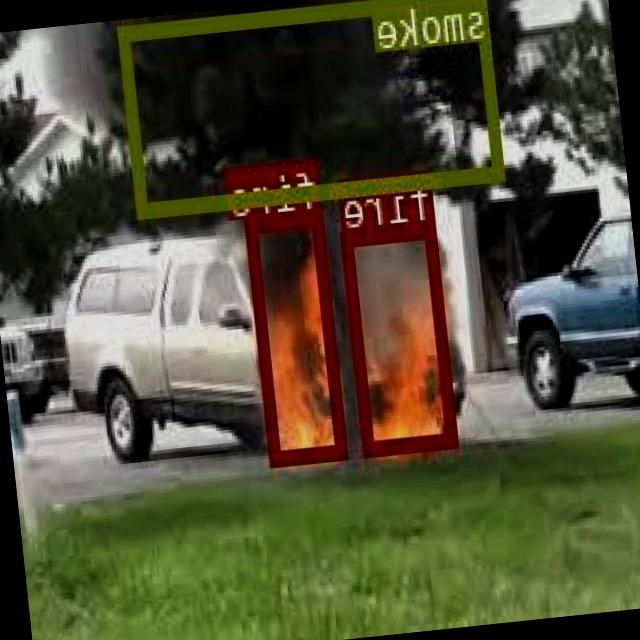fire: (342, 220, 459, 454), (246, 208, 350, 464)
smoke: (119, 0, 506, 213)
